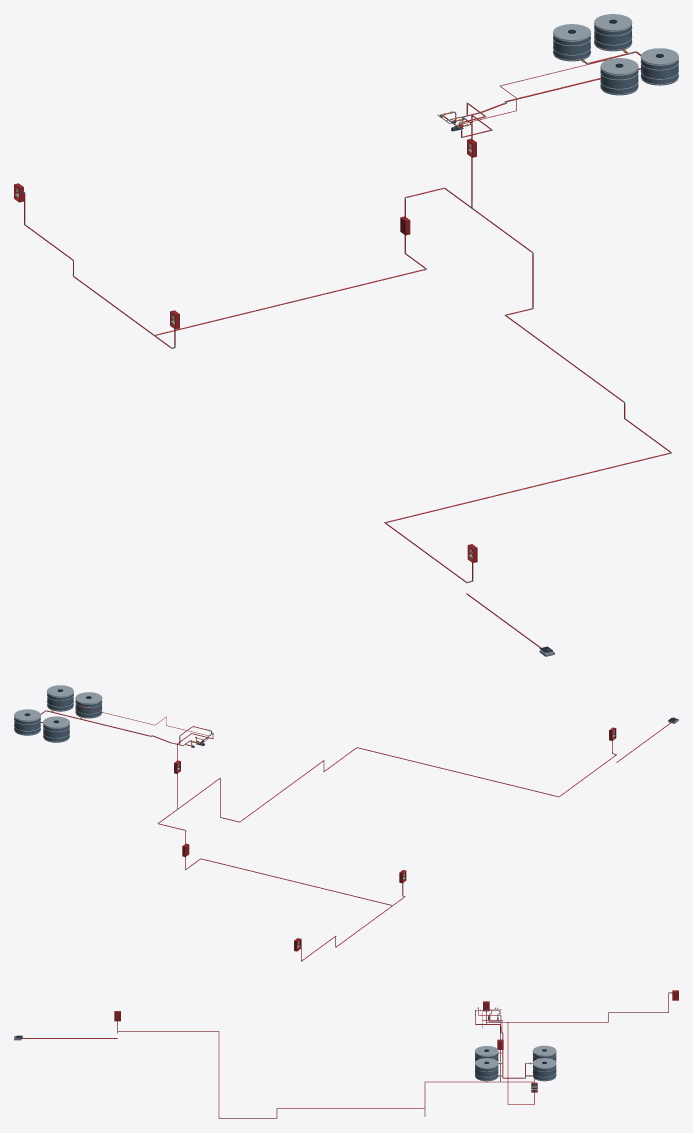
Rendered from hidrantes-luiz-carlos-v02.glb.
3 renders of one model, top to bottom at view 1: azimuth 30°, elevation 25°; view 2: azimuth 150°, elevation 25°; view 3: azimuth 270°, elevation 25°, orthographic. The views are drawn at different scales.
Parts seen in each view (by area): view 1: casa-bombas, tubulacao, hidrantes; view 2: casa-bombas, tubulacao, hidrantes; view 3: tubulacao, casa-bombas, hidrantes.
Boxes of the visible parts, left/top/right/bottom form: casa-bombas: left=451, top=14, right=678, bottom=131; tubulacao: left=21, top=48, right=671, bottom=648; hidrantes: left=14, top=114, right=554, bottom=656; casa-bombas: left=14, top=685, right=204, bottom=747; tubulacao: left=40, top=705, right=671, bottom=961; hidrantes: left=174, top=717, right=678, bottom=951; tubulacao: left=21, top=992, right=672, bottom=1118; casa-bombas: left=475, top=1015, right=556, bottom=1081; hidrantes: left=14, top=990, right=678, bottom=1092.
Bounding box in the file's own units: 33.62 × 12.63 × 61.02.
